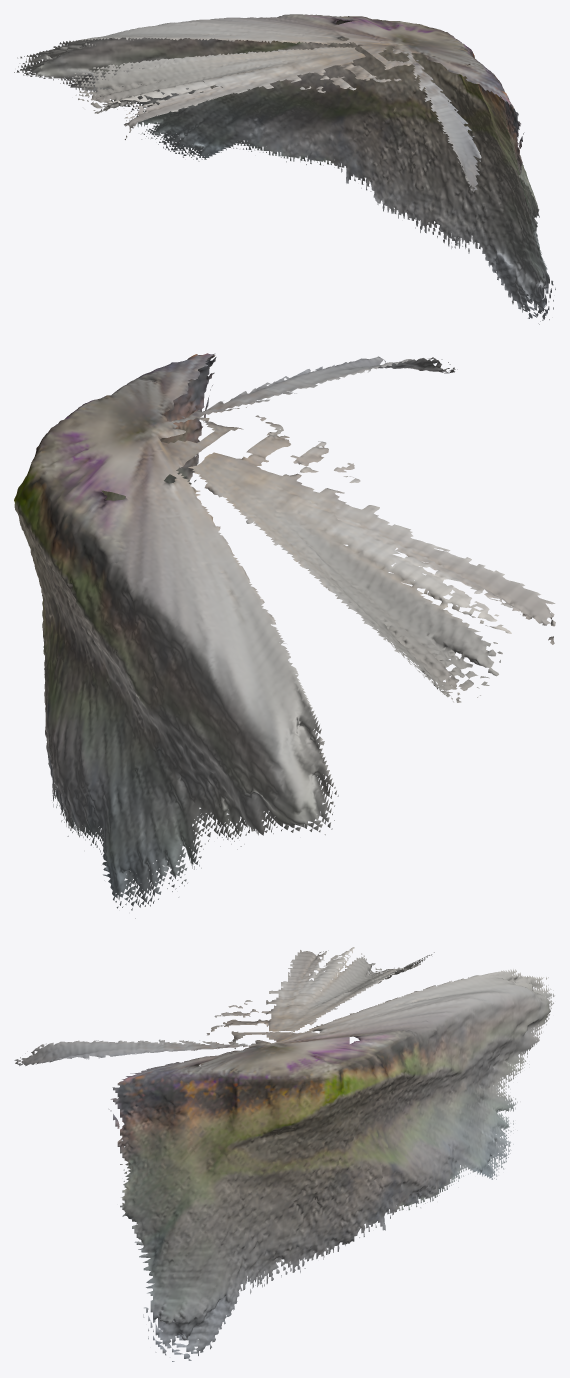
File: world-1769664814593.glb
The picture shows the model from 3 angles, top to bottom: view 1: azimuth 30°, elevation 25°; view 2: azimuth 150°, elevation 25°; view 3: azimuth 270°, elevation 25°; orthographic projection. The views are drawn at different scales.
Visible parts, largest first — view 1: world; view 2: world; view 3: world.
Boxes of the visible parts, bbox=[...] form: world: bbox=[14, 14, 555, 324]; world: bbox=[14, 353, 555, 918]; world: bbox=[14, 947, 554, 1361].
Size of the model in its own units: 130 by 95.79 by 171.
